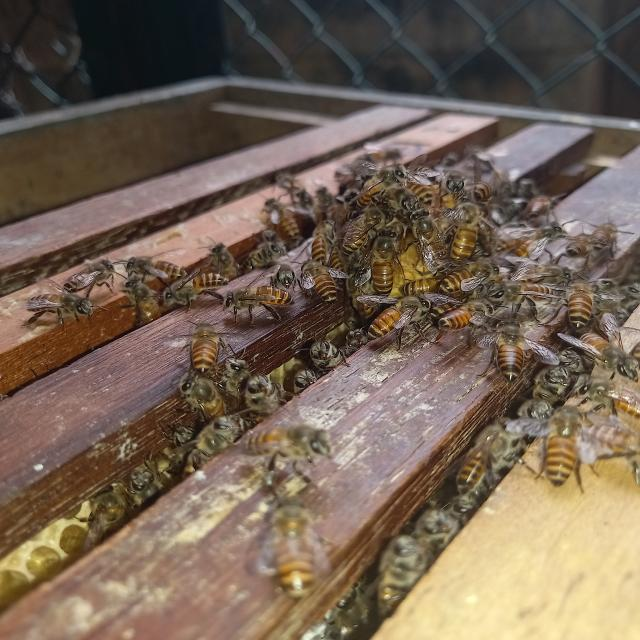honeybee: (266, 481, 320, 607), (448, 418, 519, 512), (368, 533, 438, 614), (534, 396, 591, 488), (356, 288, 434, 354), (237, 418, 334, 468), (17, 285, 107, 333), (574, 406, 640, 466), (572, 327, 640, 377), (484, 319, 536, 381), (223, 280, 297, 322), (560, 264, 600, 341), (501, 221, 570, 265), (352, 158, 416, 205), (364, 221, 402, 299), (342, 203, 396, 255), (411, 205, 451, 275), (180, 369, 238, 416), (60, 252, 116, 300), (434, 299, 498, 341), (498, 272, 560, 314), (118, 236, 186, 274), (412, 506, 462, 556), (254, 195, 299, 249), (586, 208, 632, 259), (274, 162, 314, 220), (188, 313, 224, 377), (199, 238, 242, 291), (440, 262, 503, 298), (160, 268, 230, 300), (297, 255, 339, 308), (119, 270, 156, 330), (452, 205, 486, 269), (122, 462, 162, 516), (246, 372, 286, 424), (558, 218, 601, 266), (512, 258, 582, 286), (308, 213, 338, 274), (575, 374, 640, 402), (88, 486, 125, 534), (195, 415, 244, 451), (245, 233, 290, 270), (404, 164, 439, 209), (522, 182, 556, 228), (153, 417, 196, 452), (307, 338, 343, 378), (286, 360, 318, 402), (271, 262, 303, 302), (225, 353, 253, 398), (439, 160, 467, 200), (386, 182, 420, 214), (557, 346, 589, 378), (311, 180, 339, 216), (537, 365, 568, 397), (401, 274, 446, 296), (470, 176, 498, 204), (591, 272, 621, 296), (623, 278, 640, 305), (341, 210, 361, 222)
